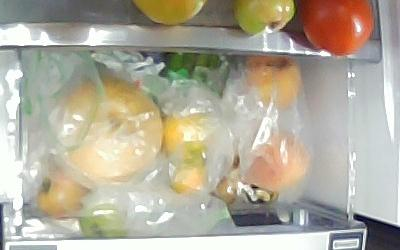peach_vinyl: (245, 128, 309, 192), (243, 56, 302, 109)
pear_vinyl: (63, 79, 162, 178)
tangerine_vinyl: (164, 112, 209, 163), (169, 164, 209, 195)
tomato_vinyl: (33, 172, 87, 220), (78, 203, 127, 238)
